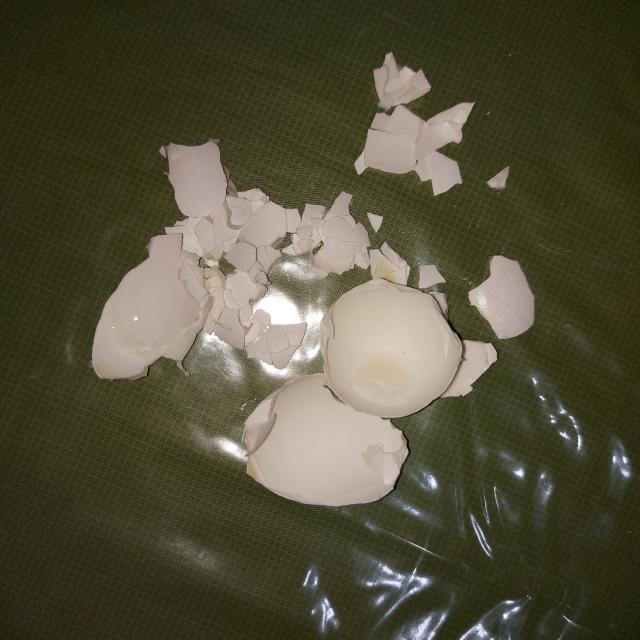egg shell: (240, 374, 410, 504), (235, 188, 448, 288), (318, 280, 462, 420), (178, 220, 306, 374), (88, 232, 204, 382), (352, 101, 478, 196), (467, 254, 538, 342), (156, 140, 234, 217), (367, 52, 438, 111), (443, 340, 502, 398), (485, 160, 512, 193)
